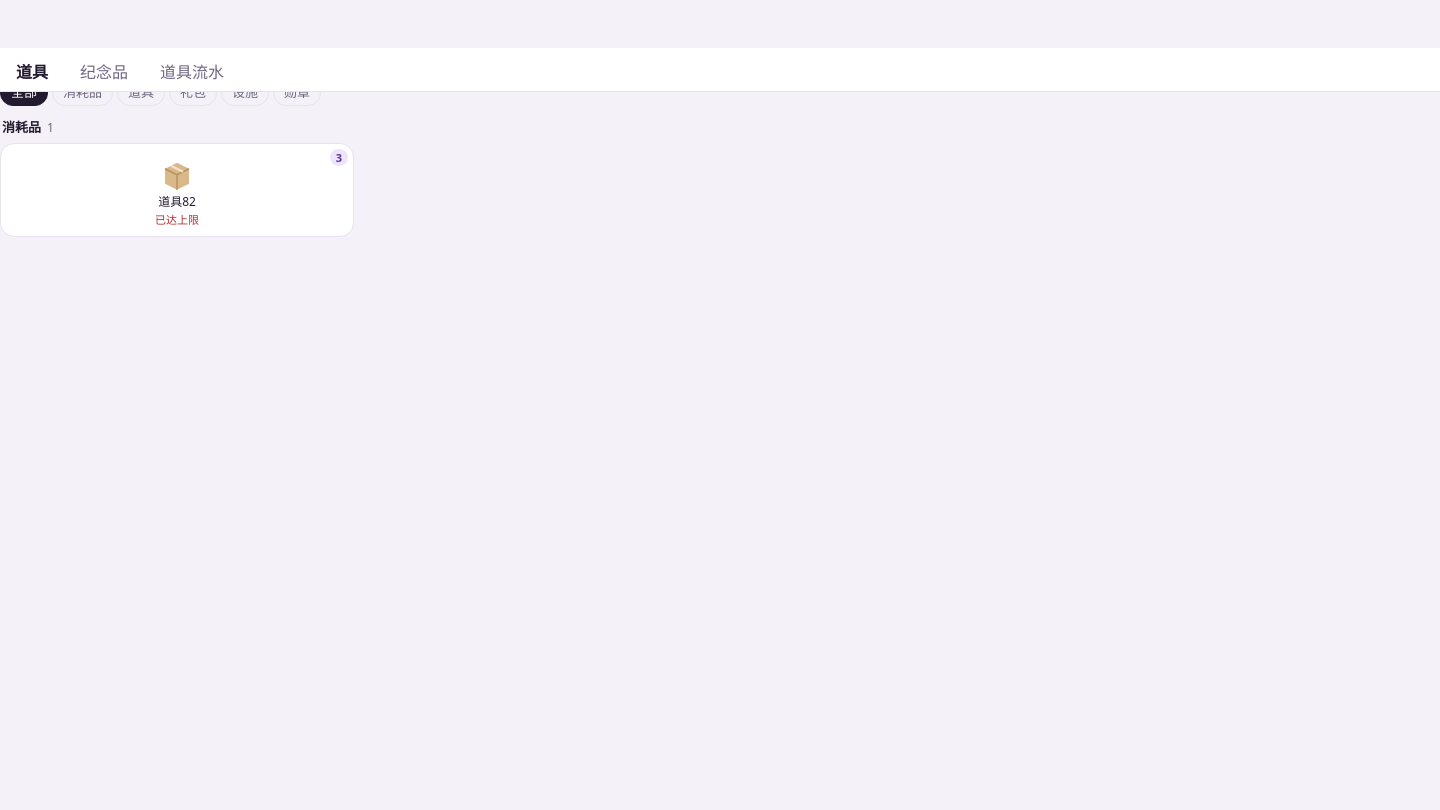
Test case: StoreView › 现在用不了（上限为 0）时使用按钮禁用并提示
The image size is (1440, 810).
Expected: the text with class "dt-bag-need" reads "已达上限", [155,212,199,227]
Step 1. Click the button with test id "store-item-82" → (177, 190), box [0,143,354,237]
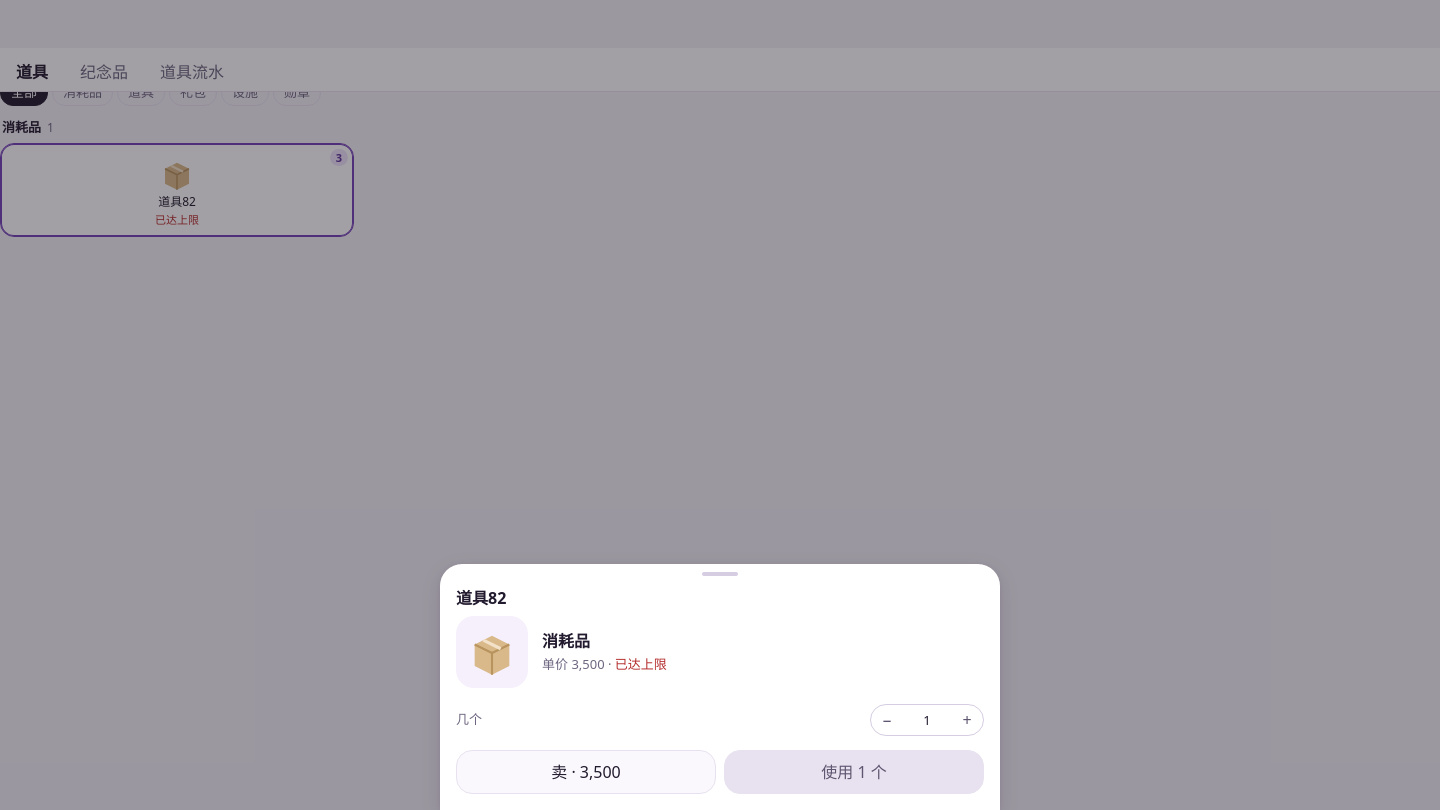
Result: the button with test id "store-use" is disabled at [724,750,984,794]
Result: the text "已达上限" is shown at [615,655,667,673]
